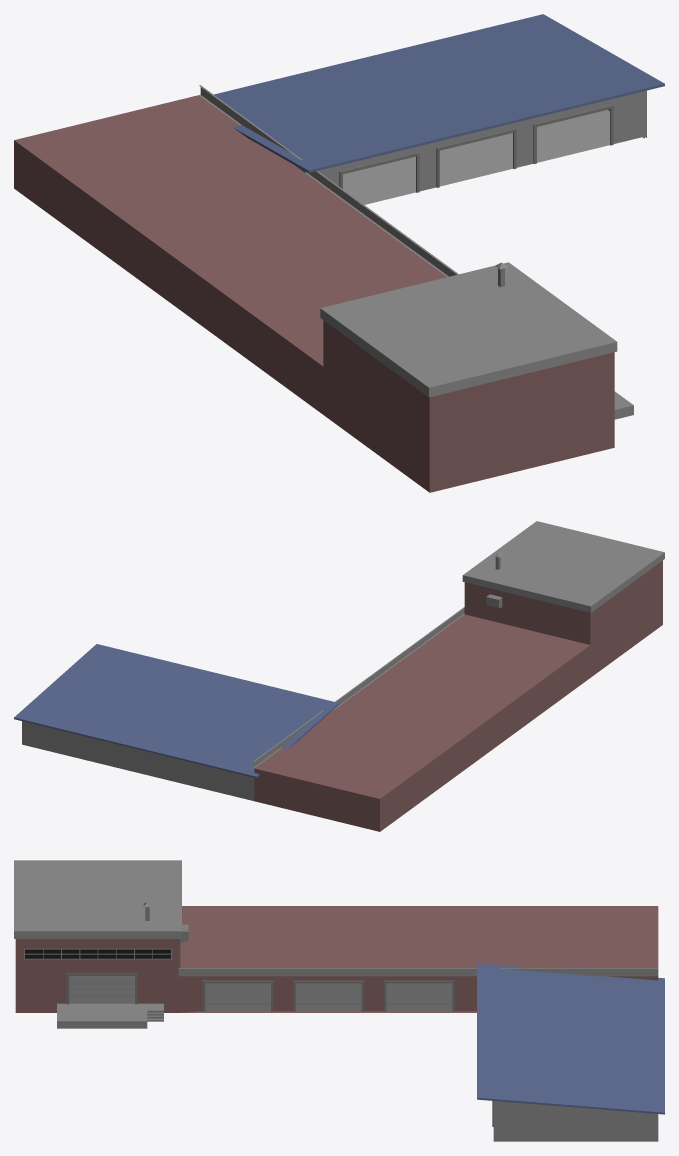
Rendered from garage.glb.
3 views of the same model, one above another, from view 1: azimuth 30°, elevation 25°; view 2: azimuth 150°, elevation 25°; view 3: azimuth 270°, elevation 25° (orthographic). The views are drawn at different scales.
Visible parts, largest first — view 1: Garage2, Garage1; view 2: Garage2, Garage1; view 3: Garage2, Garage1.
Boxes of the visible parts, left/top/right/bottom form: Garage2: left=14, top=85, right=633, bottom=492; Garage1: left=214, top=14, right=664, bottom=204; Garage2: left=253, top=521, right=664, bottom=831; Garage1: left=14, top=644, right=339, bottom=800; Garage2: left=14, top=860, right=658, bottom=1028; Garage1: left=477, top=963, right=664, bottom=1141.
Bounding box in the file's own units: 58 × 13.43 × 79.
